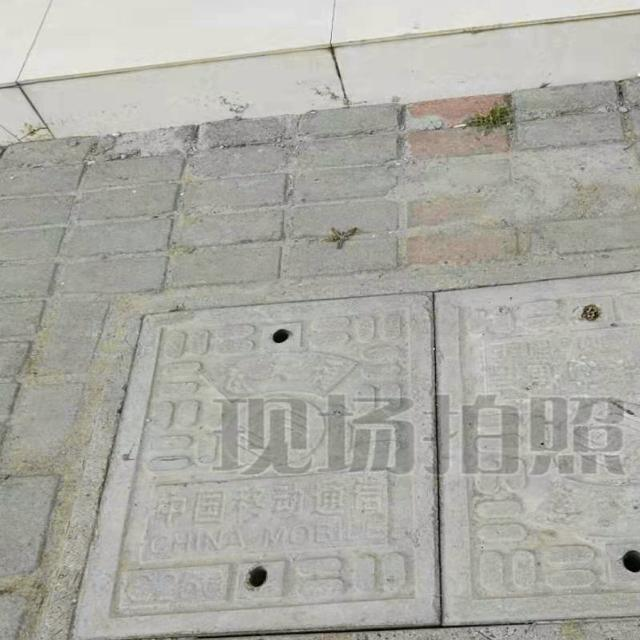good: (28, 243, 640, 640)
